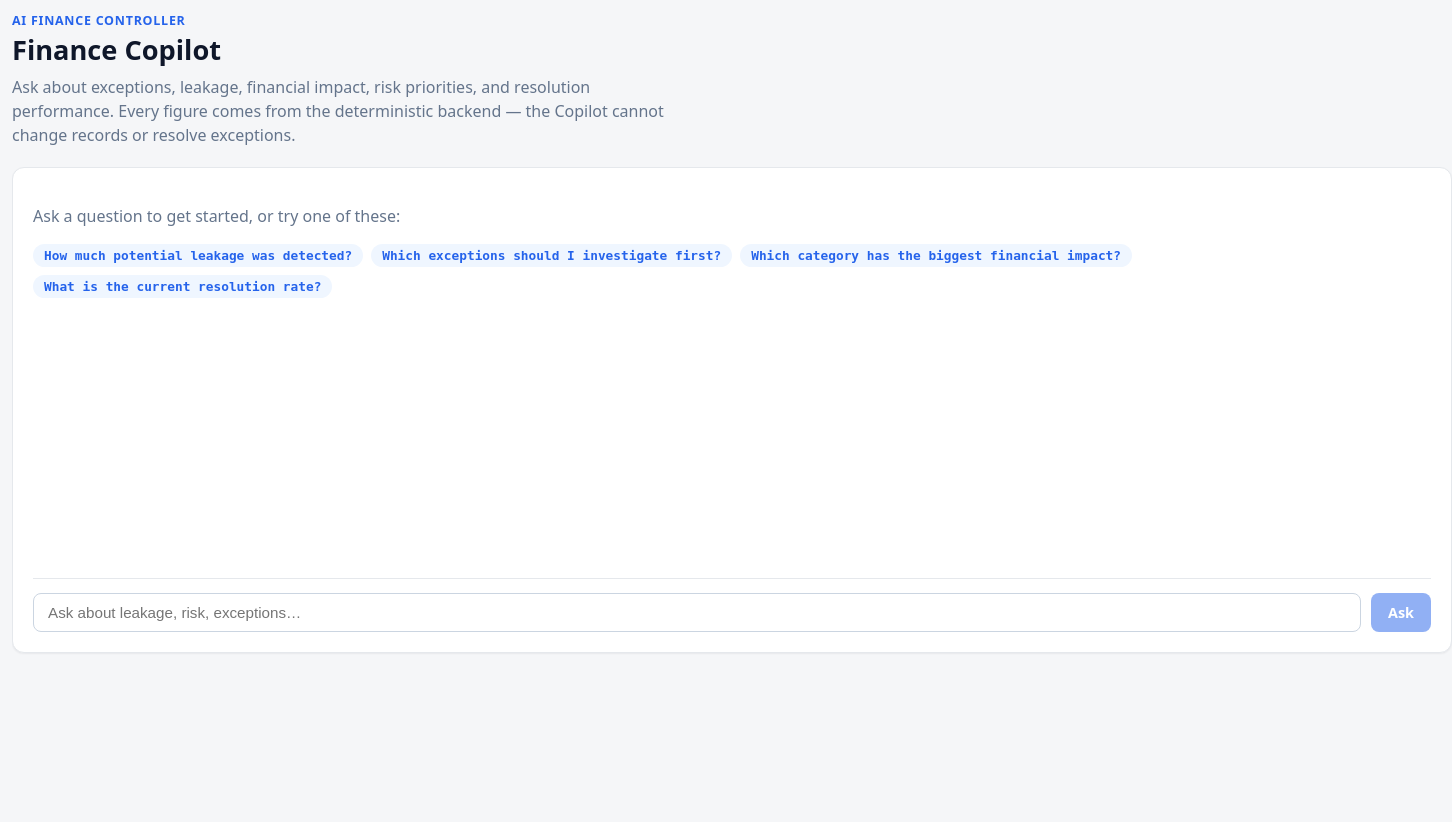
Test: Finance Copilot page › sends a question and renders the backend answer verbatim
This screenshot has width=1452, height=822.
Click the button "How much potential leakage was detected?". click: [198, 255]
box: x1=33 y1=244 x2=363 y2=267
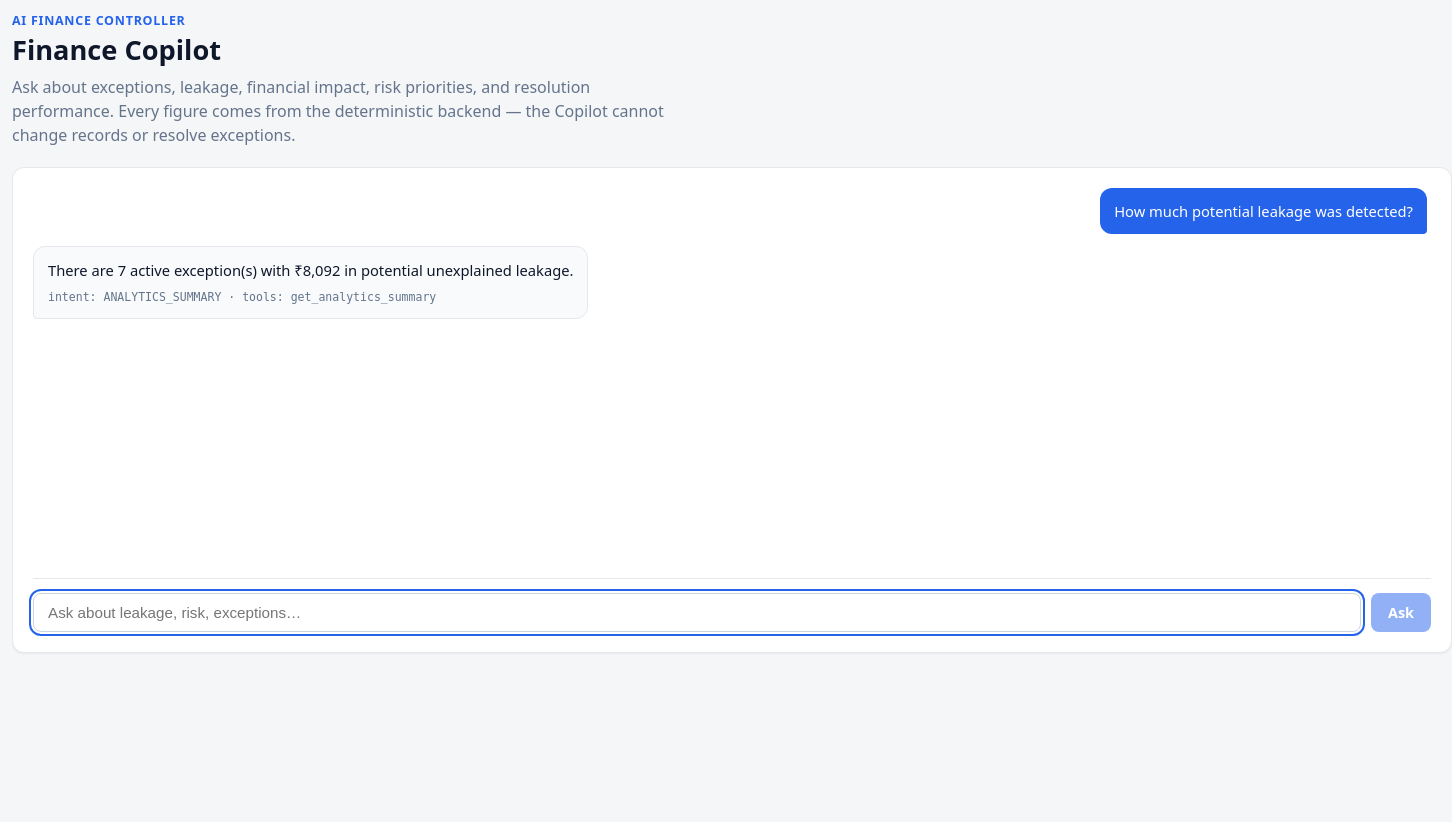
Expected: the text "₹8,092 in potential unexplained leakage" is shown, x1=48 y1=260 x2=574 y2=280
